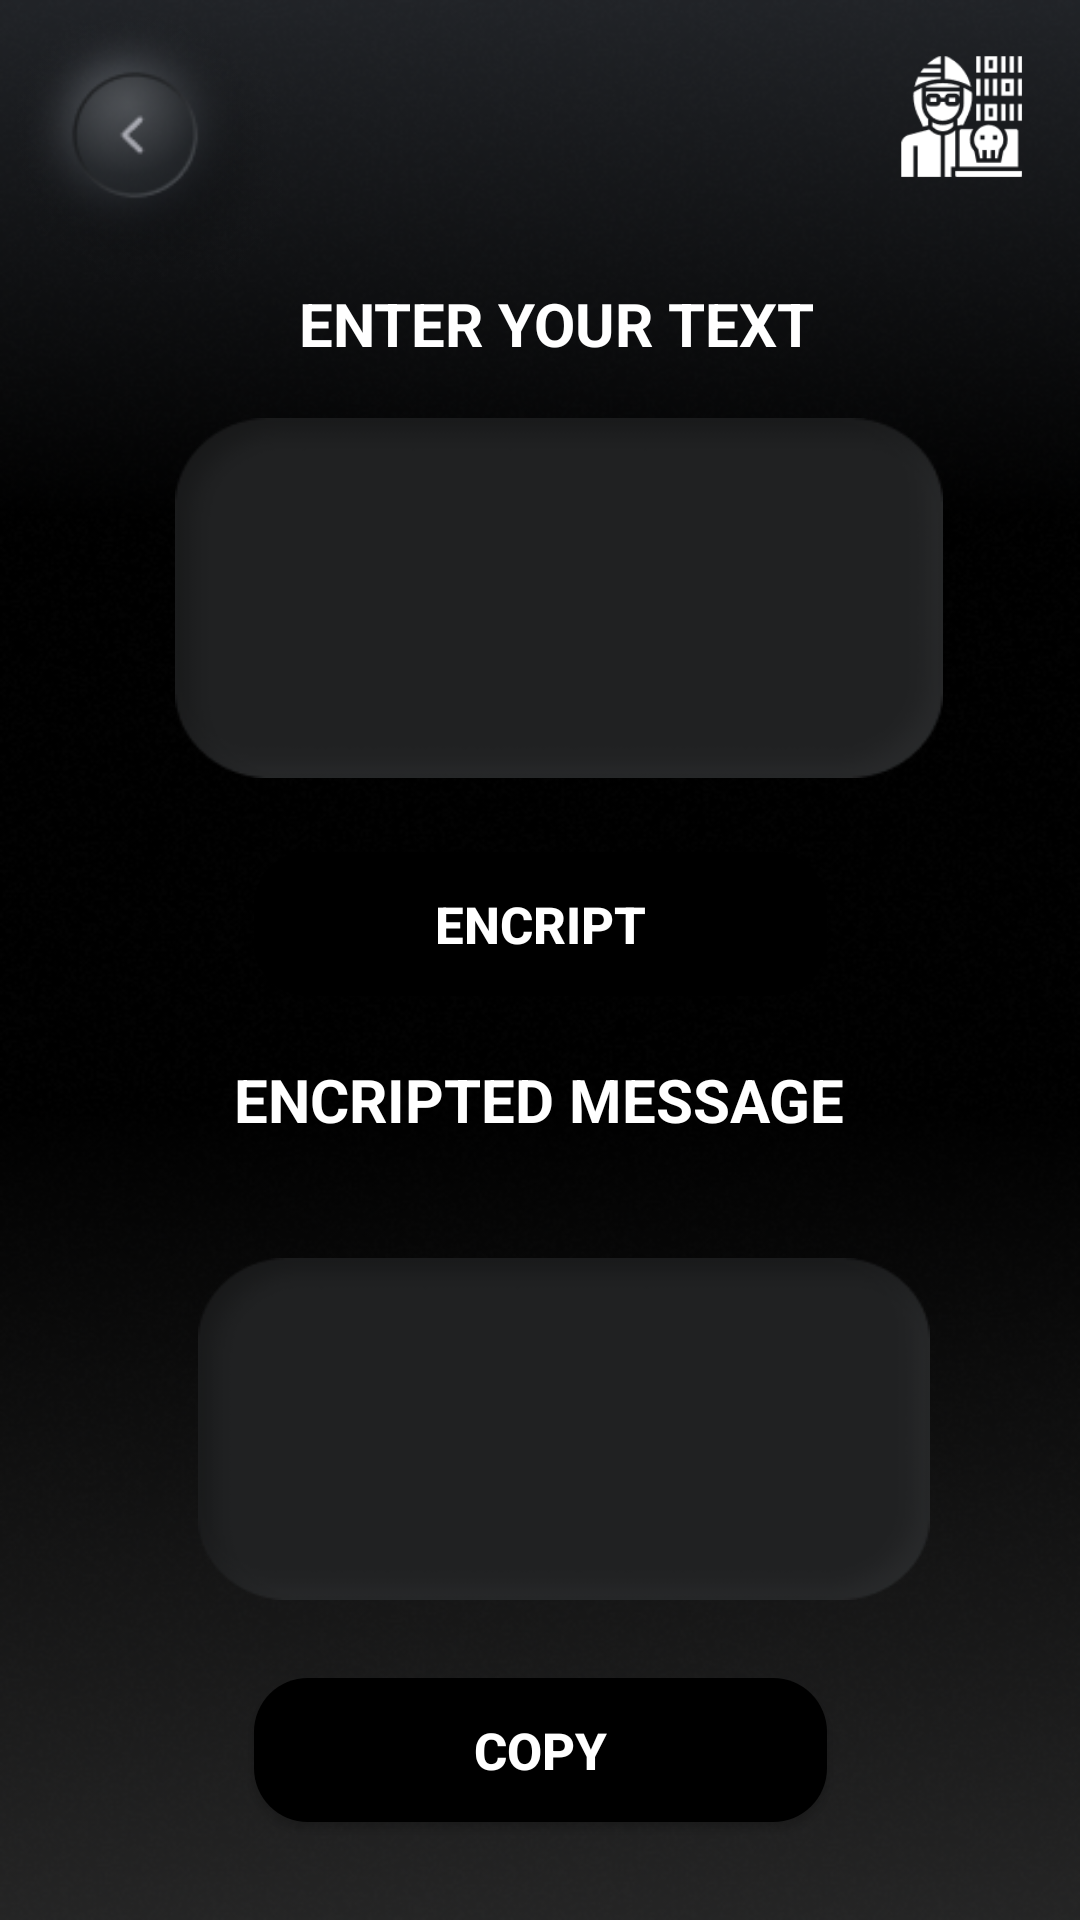

Icon click points for this 1080px×1920px phone screenshot, format (x=x, y=y):
reversebtn: (x=136, y=131)
